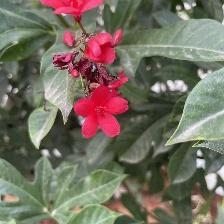jatropha: (73, 85, 132, 141)
